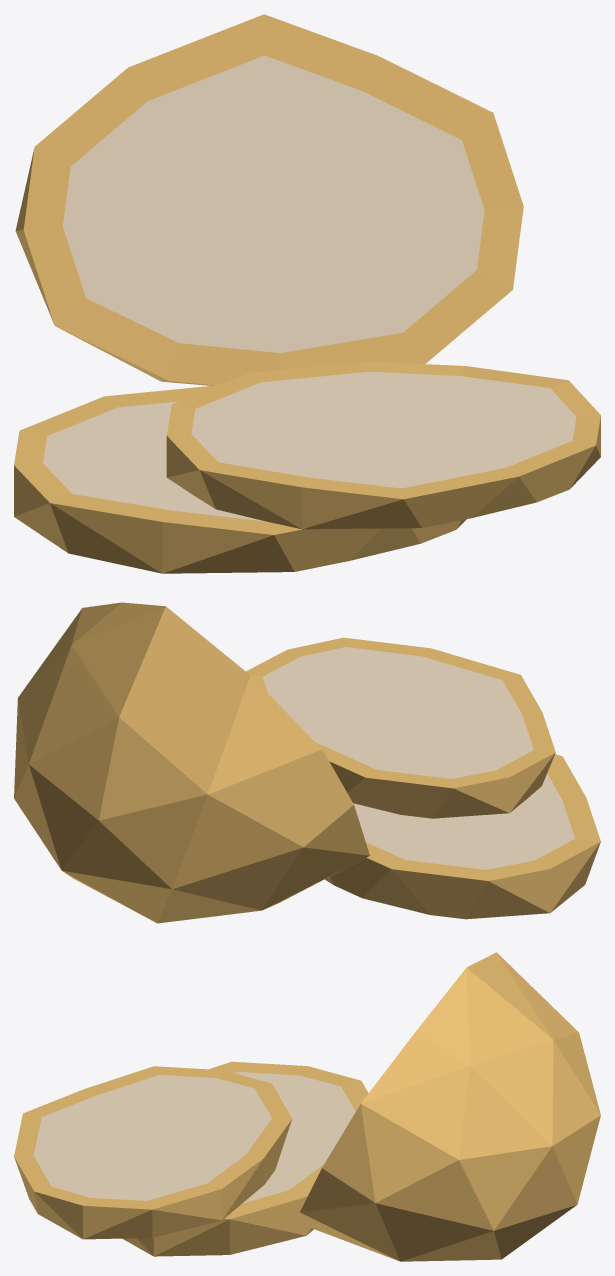
File: SM_Onion_Slicing.fbx
The picture shows the model from 3 angles, top to bottom: view 1: azimuth 30°, elevation 25°; view 2: azimuth 150°, elevation 25°; view 3: azimuth 270°, elevation 25°; orthographic projection. The views are drawn at different scales.
Visible parts, largest first — view 1: half sliced onion; view 2: half sliced onion; view 3: half sliced onion.
Part boxes in pixels (x1=…): half sliced onion: x1=14, y1=14, x2=600, y2=573; half sliced onion: x1=14, y1=602, x2=600, y2=923; half sliced onion: x1=14, y1=952, x2=600, y2=1261.
Size of the model in its own units: 51.19 by 30.69 by 58.44.
